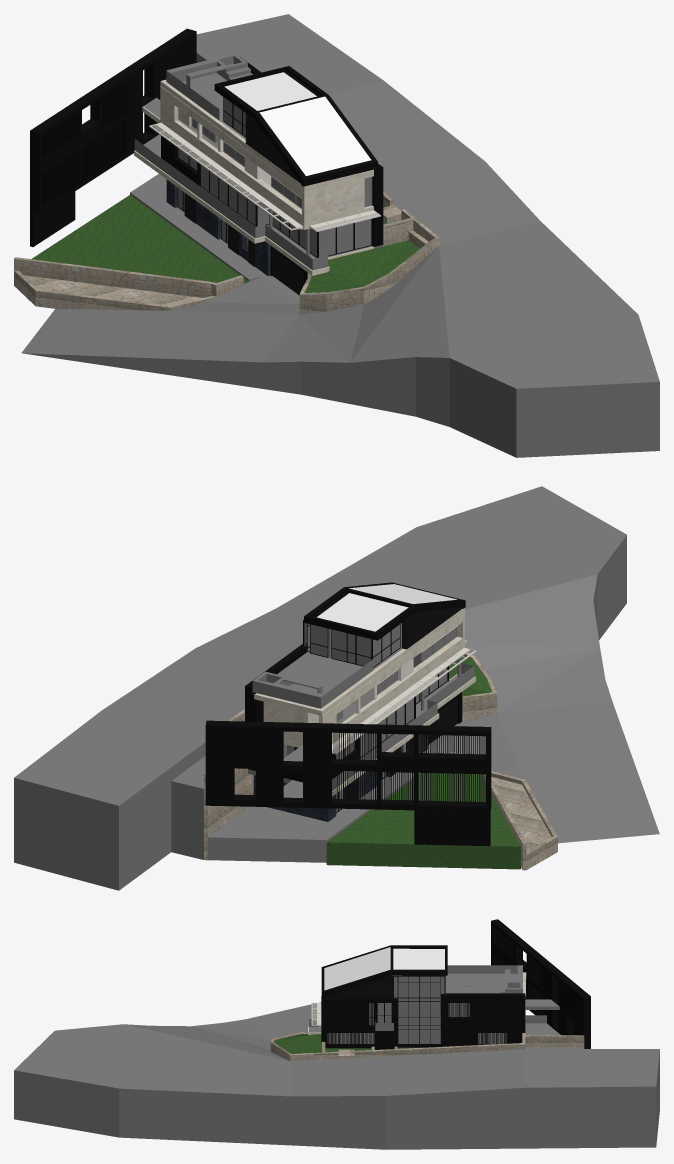
The model's file is paa-fbx-good-021.obj.
3 views of the same model, one above another, from view 1: azimuth 30°, elevation 25°; view 2: azimuth 150°, elevation 25°; view 3: azimuth 270°, elevation 25° (orthographic). The views are drawn at different scales.
Parts seen in each view (by area): view 1: road, stone_wall, grass, wood_base, white_volume, GLASS, ALUMINUM_BLACK, dalles, Mesh13, louvres, ovent, Mesh12 (+3 smaller); view 2: road, wood_base, dalles, grass, ALUMINUM_BLACK, GLASS, white_volume, stone_wall, louvres, Mesh12, ovent, black_stone (+2 smaller); view 3: road, wood_base, tram, GLASS, stone_wall, ALUMINUM_BLACK, dalles, louvres, Mesh13, Mesh12, grass, Mesh14.
Part boxes in pixels (x1,y1,x2,y2): road: (21,14,659,457); stone_wall: (14,192,439,314); grass: (32,195,419,292); wood_base: (30,28,382,246); white_volume: (134,79,373,275); GLASS: (134,73,371,270); ALUMINUM_BLACK: (30,66,377,295); dalles: (130,53,382,298); Mesh13: (259,96,371,175); louvres: (42,81,126,207); ovent: (149,122,380,232); Mesh12: (224,72,316,110); road: (14,486,659,890); wood_base: (205,644,491,811); dalles: (207,623,464,862); grass: (326,656,520,869); ALUMINUM_BLACK: (303,582,490,846); GLASS: (304,623,474,811); white_volume: (254,608,475,796); stone_wall: (204,652,557,870); louvres: (333,733,485,802); Mesh12: (317,593,408,631); ovent: (332,640,476,754); black_stone: (253,734,427,821); road: (14,1002,659,1149); wood_base: (321,919,590,1049); tram: (321,995,525,1052); GLASS: (309,965,546,1044); stone_wall: (270,1031,584,1061); ALUMINUM_BLACK: (321,945,503,1044); dalles: (309,965,560,1043); louvres: (328,926,542,1045); Mesh13: (324,947,390,990); Mesh12: (393,948,444,969); grass: (274,1034,420,1053); Mesh14: (324,975,393,997).
Bounding box in the file's own units: 42.43 × 15.6 × 71.66.
Materials: 12 (4 with a texture image).
